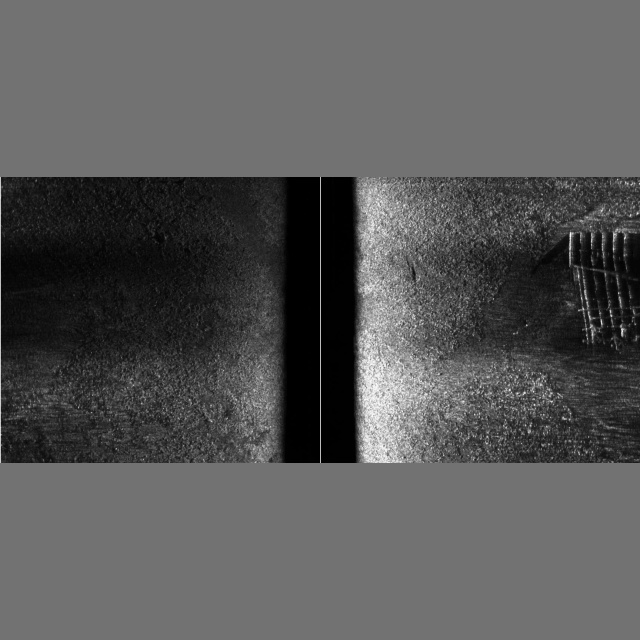Shipwreck: (405, 231, 640, 351)
